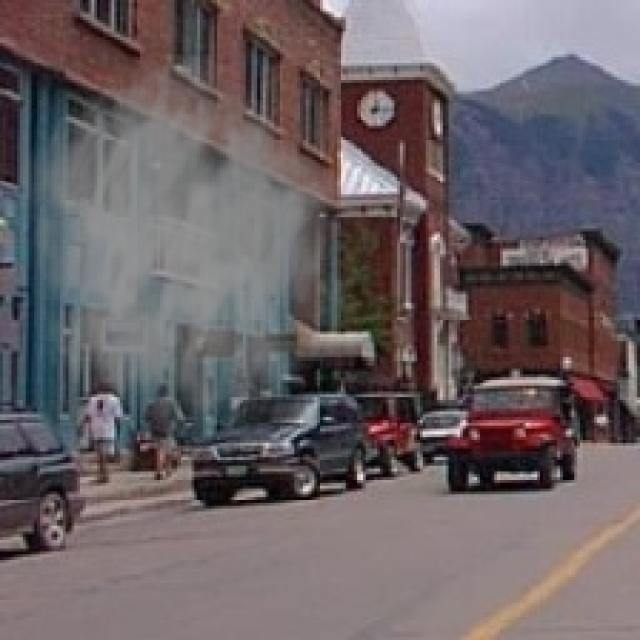Smoke: (17, 51, 363, 468)
